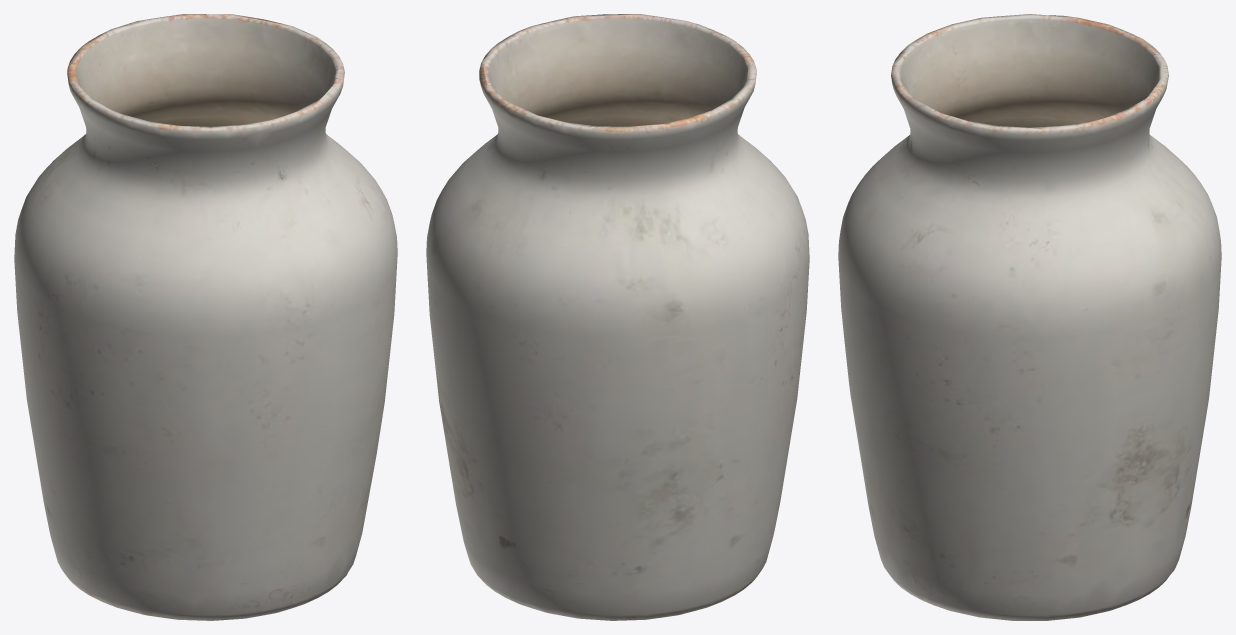
The model's file is ceramic_vase_02.glb.
3 renders of one model, left to right at view 1: azimuth 30°, elevation 25°; view 2: azimuth 150°, elevation 25°; view 3: azimuth 270°, elevation 25°, orthographic.
Parts seen in each view (by area): view 1: ceramic_vase_02; view 2: ceramic_vase_02; view 3: ceramic_vase_02.
Part boxes in pixels (<box>): ceramic_vase_02: <box>14,14,397,620</box>; ceramic_vase_02: <box>426,14,809,620</box>; ceramic_vase_02: <box>838,14,1221,620</box>.
Size of the model in its own units: 0.2184 by 0.3092 by 0.2184.
Materials: 1 (1 with a texture image).
